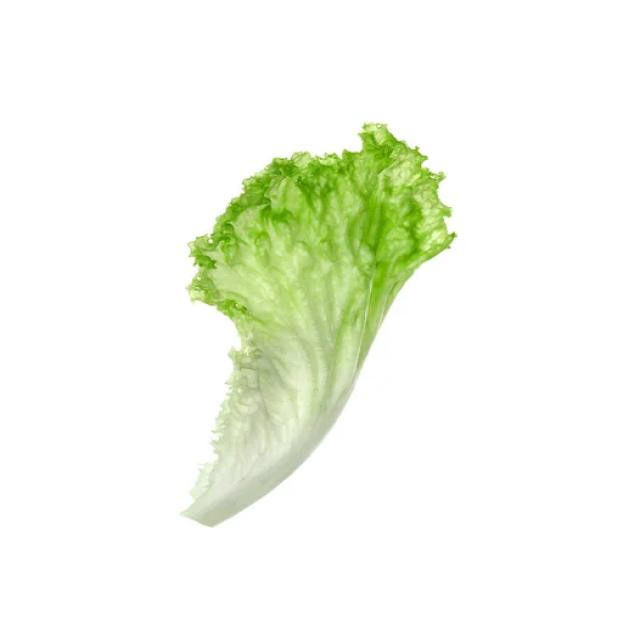lettuce: (179, 120, 456, 527)
